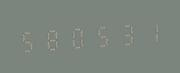eight: (41, 23, 64, 54)
five: (17, 25, 40, 56), (90, 20, 113, 51)
one: (138, 16, 161, 47)
three: (114, 18, 137, 49)
zero: (66, 21, 89, 53)
